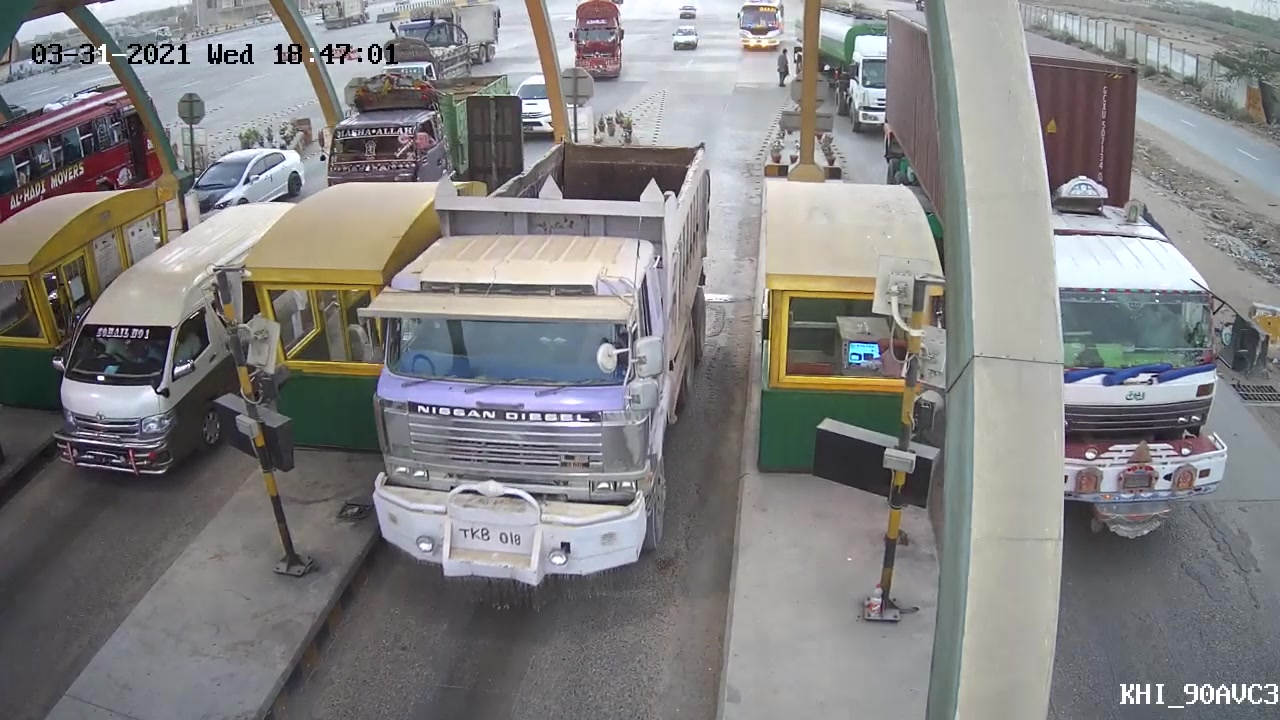F5: (360, 131, 728, 618)
